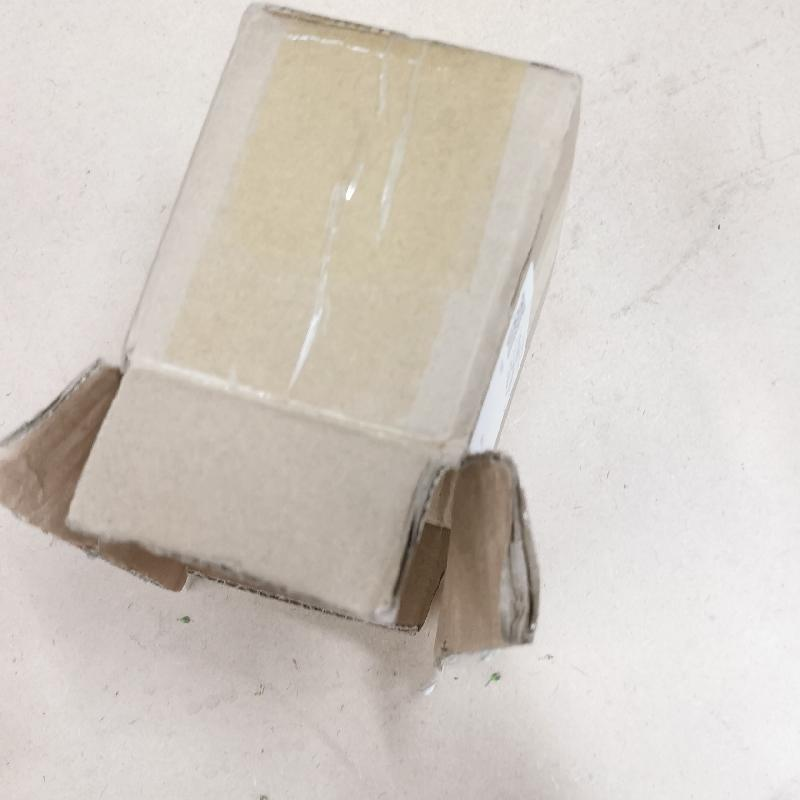boxes: (6, 7, 599, 677)
